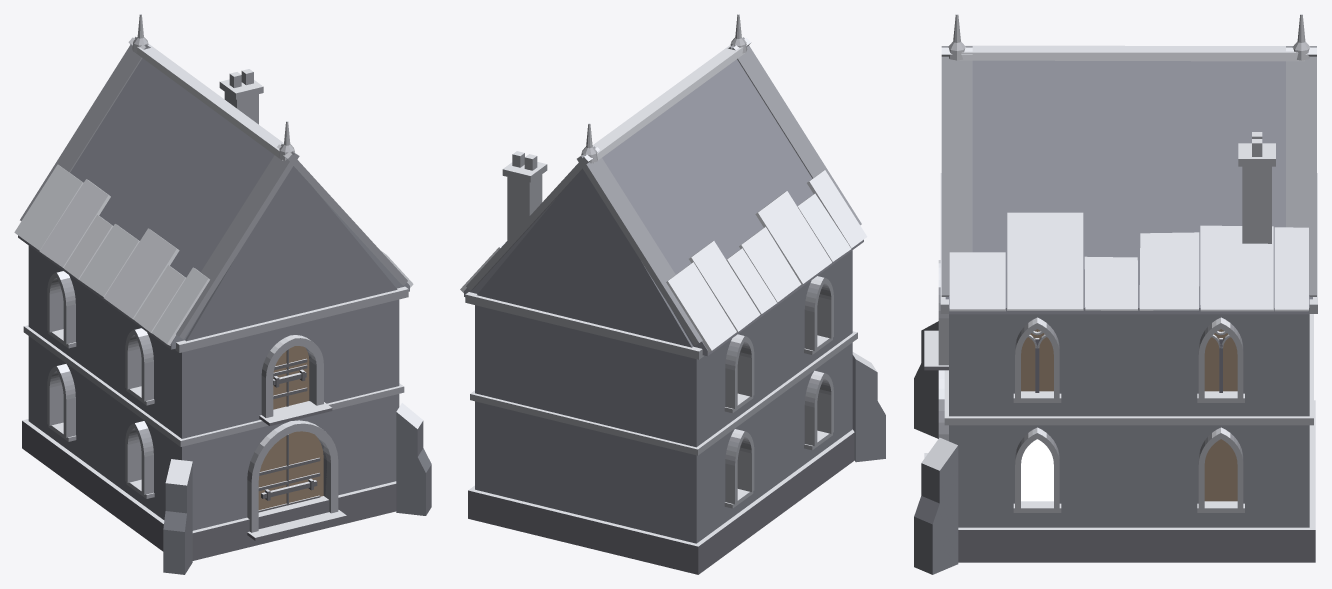
The model's file is AR_Deposito_Cristal.fbx.
The picture shows the model from 3 angles, left to right: view 1: azimuth 30°, elevation 25°; view 2: azimuth 150°, elevation 25°; view 3: azimuth 270°, elevation 25°; orthographic projection. The views are drawn at different scales.
Visible parts, largest first — view 1: AR_Deposito_Cristal; view 2: AR_Deposito_Cristal; view 3: AR_Deposito_Cristal.
Boxes of the visible parts, x1,y1,x2,y2 form: AR_Deposito_Cristal: [14, 14, 431, 574]; AR_Deposito_Cristal: [460, 14, 885, 574]; AR_Deposito_Cristal: [914, 14, 1317, 574].
Bounding box in the file's own units: 11.12 × 16.26 × 12.31.
